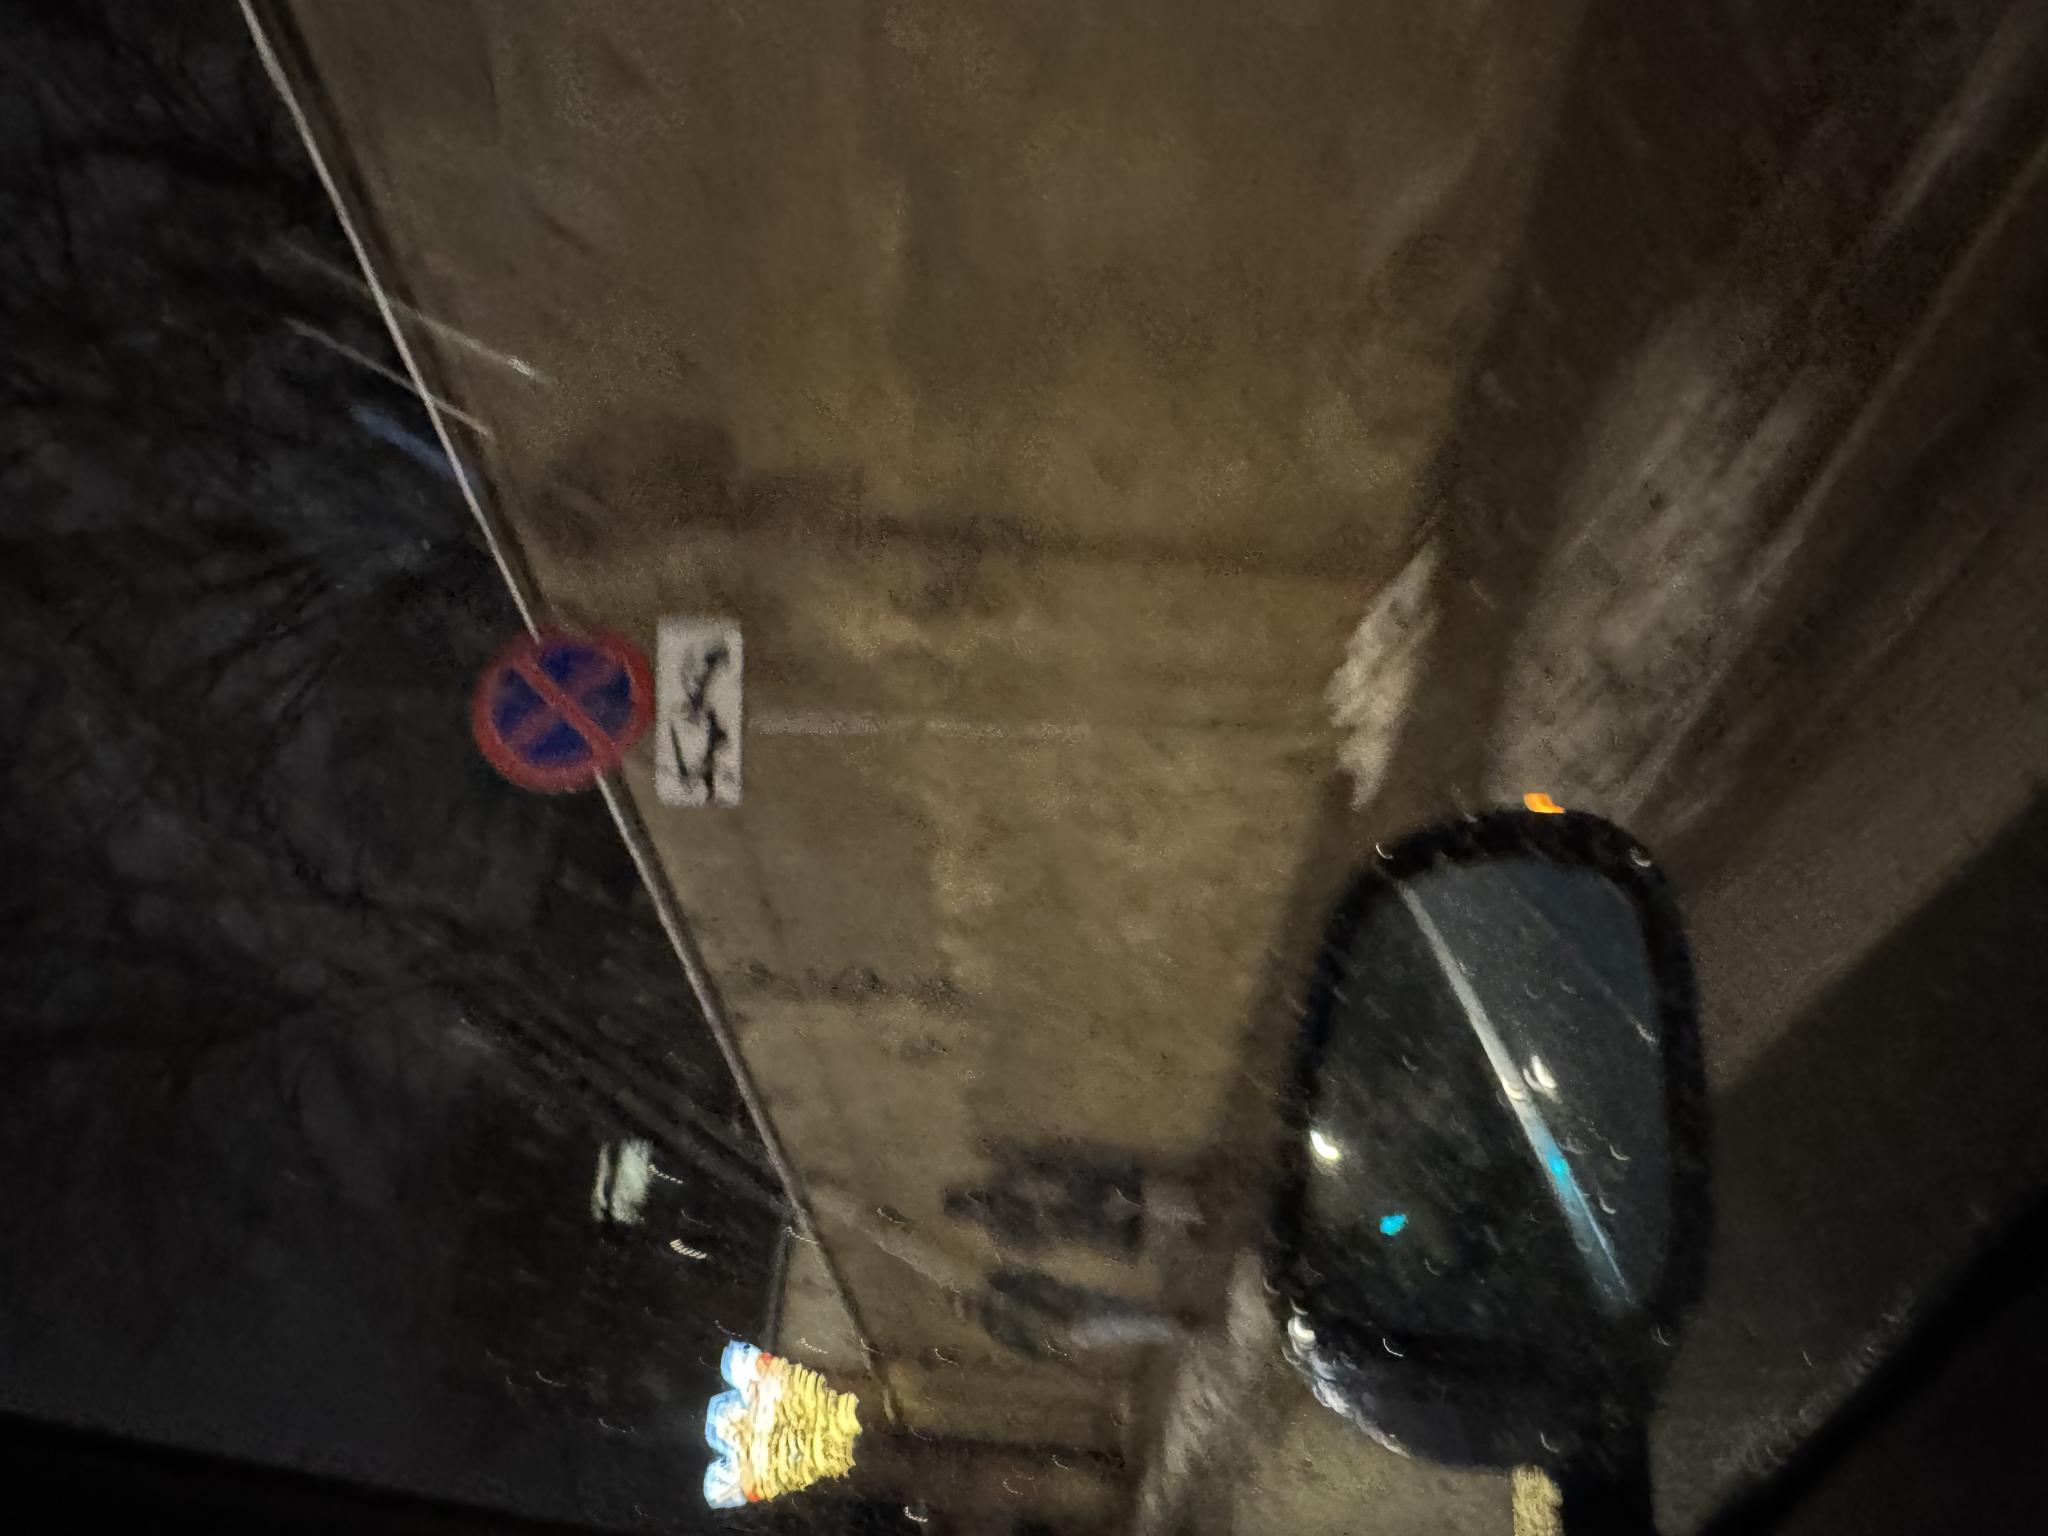other: (727, 658, 916, 744)
prohibitory: (743, 470, 913, 658)
